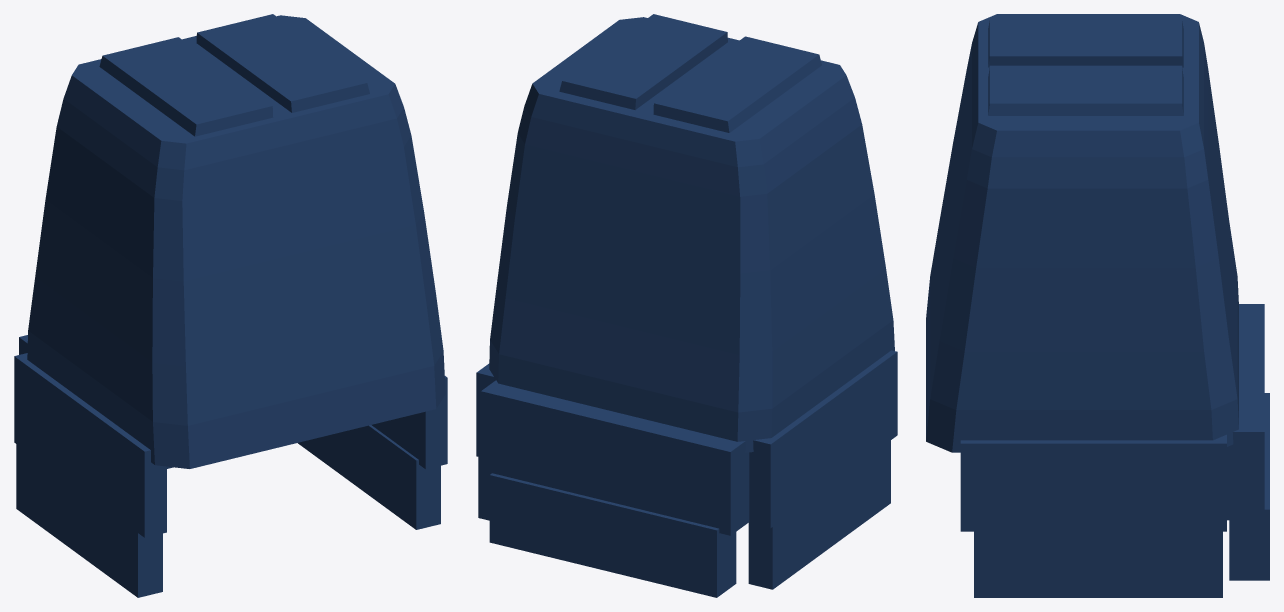
File: hair_boy_high_top_fade_01.glb
3 views of the same model, side by side, from view 1: azimuth 30°, elevation 25°; view 2: azimuth 150°, elevation 25°; view 3: azimuth 270°, elevation 25° (orthographic). The views are drawn at different scales.
Parts seen in each view (by area): view 1: HighTop_Cap, HighTop_Fade2_Side_L, HighTop_Fade1_Side_L, HighTop_CrownFacet_L, HighTop_CrownFacet_R, HighTop_Fade1_Side_R, HighTop_Fade2_Side_R; view 2: HighTop_Cap, HighTop_Fade2_Nape, HighTop_Fade1_Nape, HighTop_Fade2_Side_L, HighTop_Fade1_Side_L, HighTop_CrownFacet_L, HighTop_CrownFacet_R, HighTop_Fade2_Side_R, HighTop_Fade1_Side_R; view 3: HighTop_Cap, HighTop_Fade2_Side_R, HighTop_Fade1_Side_R, HighTop_CrownFacet_R, HighTop_CrownFacet_L, HighTop_Fade2_Nape, HighTop_Fade1_Nape.
Boxes of the visible parts, x1,y1,x2,y2 form: HighTop_Cap: (27, 15, 445, 468); HighTop_Fade2_Side_L: (14, 353, 166, 537); HighTop_Fade1_Side_L: (16, 439, 162, 597); HighTop_CrownFacet_L: (99, 37, 273, 136); HighTop_CrownFacet_R: (196, 14, 369, 112); HighTop_Fade1_Side_R: (298, 425, 440, 529); HighTop_Fade2_Side_R: (372, 376, 447, 469); HighTop_Cap: (489, 17, 894, 452); HighTop_Fade2_Nape: (481, 380, 749, 535); HighTop_Fade1_Nape: (489, 473, 736, 597); HighTop_Fade2_Side_L: (749, 350, 897, 527); HighTop_Fade1_Side_L: (748, 440, 890, 589); HighTop_CrownFacet_L: (653, 36, 821, 132); HighTop_CrownFacet_R: (559, 14, 727, 109); HighTop_Fade2_Side_R: (476, 363, 494, 457); HighTop_Fade1_Side_R: (478, 457, 489, 520); HighTop_Cap: (926, 14, 1238, 452); HighTop_Fade2_Side_R: (960, 434, 1226, 531); HighTop_Fade1_Side_R: (974, 527, 1222, 597); HighTop_CrownFacet_R: (988, 65, 1183, 115); HighTop_CrownFacet_L: (988, 18, 1183, 67); HighTop_Fade2_Nape: (1227, 304, 1264, 520); HighTop_Fade1_Nape: (1229, 393, 1269, 580).
Bounding box in the file's own units: 0.342 × 0.487 × 0.329.
